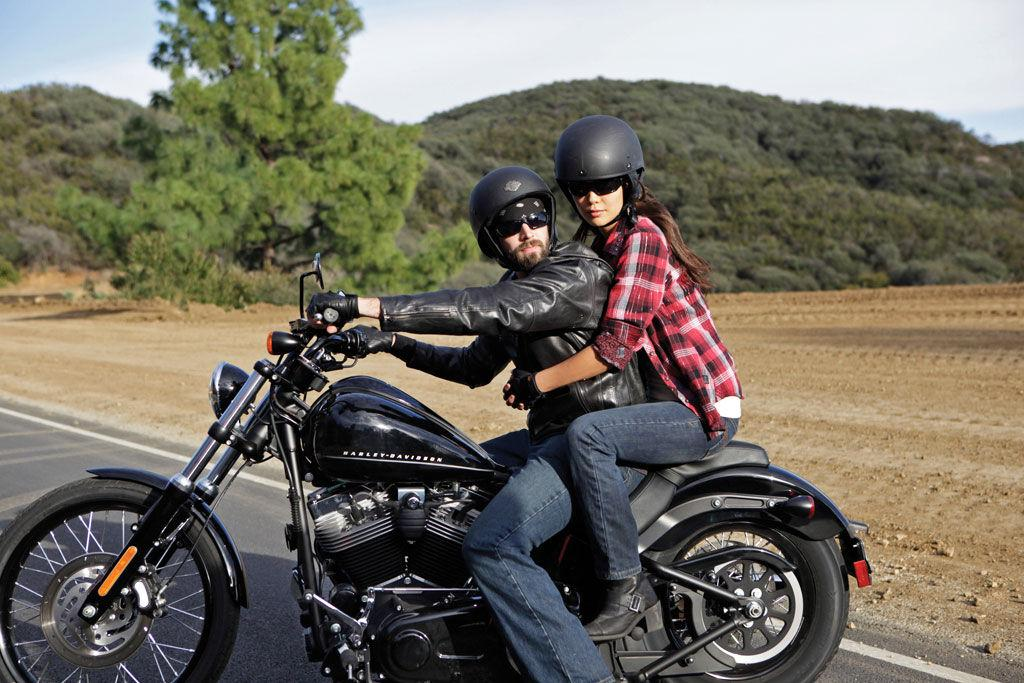helmet: (539, 108, 680, 224), (448, 168, 581, 270)
